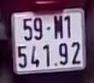1: (43, 43, 52, 68), (65, 12, 73, 39)
2: (71, 40, 83, 65)
4: (29, 44, 40, 71)
5: (21, 15, 33, 42), (17, 42, 28, 71)
9: (32, 15, 45, 41), (58, 41, 69, 67)
M: (52, 12, 65, 40)
